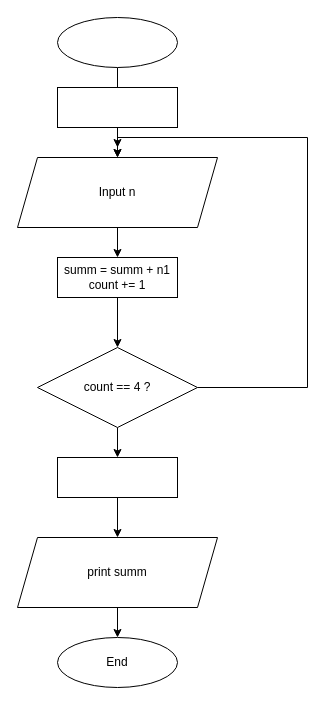
The diagram is 333 pixels wide and 705 high, and some of its shapes have lost their labels. Here are the shapes that lost their labels. From the top down, the centre of each, then its label:
At point (117, 42): "Begin".
At point (117, 107): "int n int count, summ".
At point (117, 477): "summ = summ / count".
